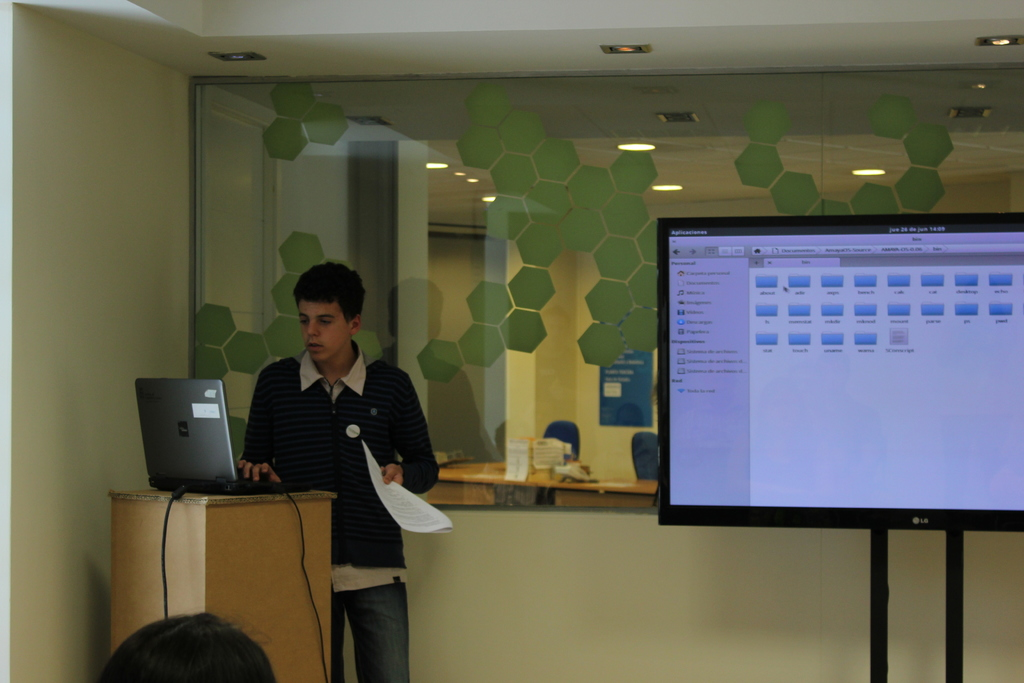Person: (237, 261, 438, 683), (97, 610, 277, 683)
